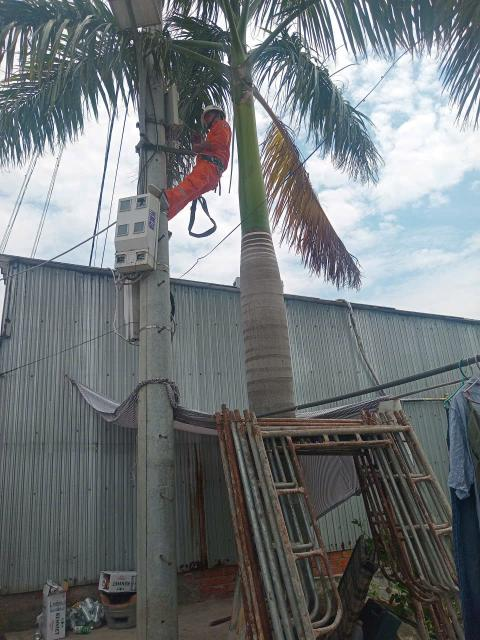gloves: (186, 137, 214, 156), (188, 128, 202, 146)
helmet: (192, 100, 227, 124)
shoes: (147, 183, 173, 213)
